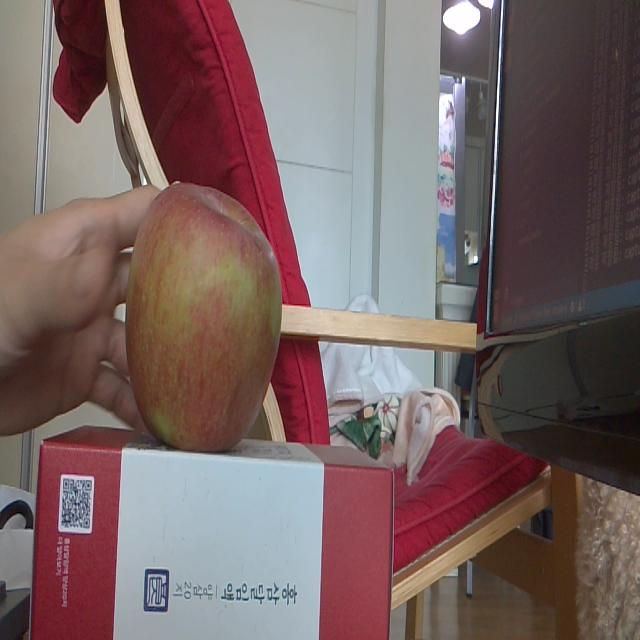apple: (125, 185, 282, 451)
